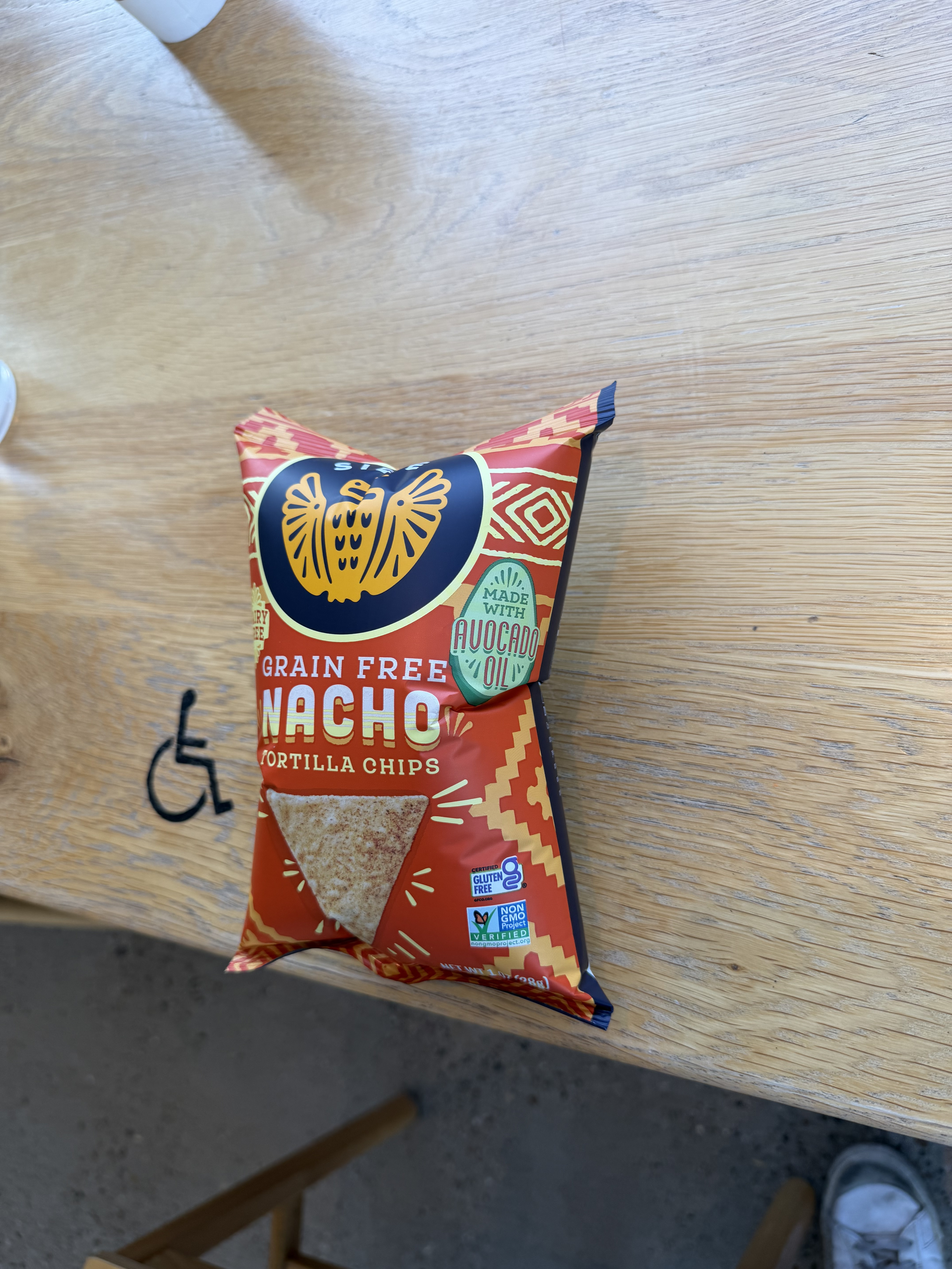nacho: (171, 395, 660, 1029)
